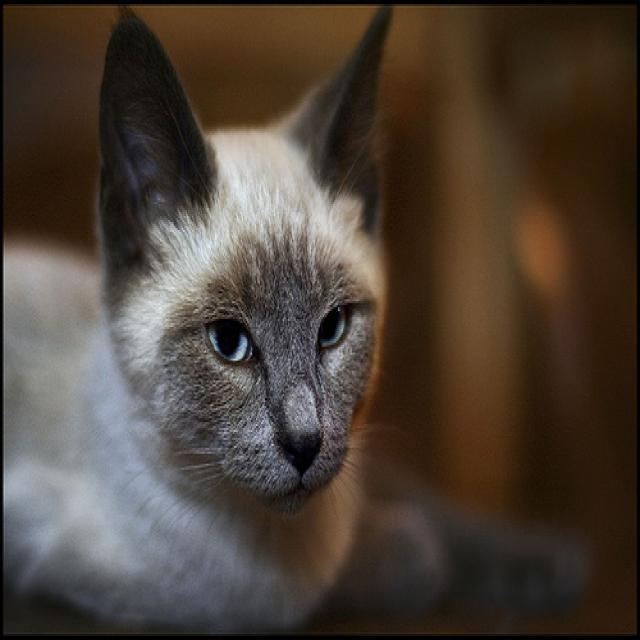left eye: (315, 297, 352, 351)
